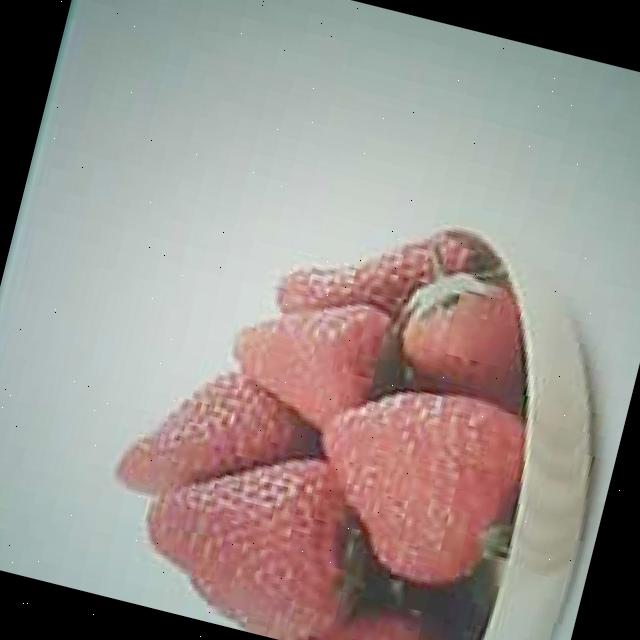strawberry: (298, 366, 529, 598), (129, 426, 373, 640), (218, 272, 402, 434)
